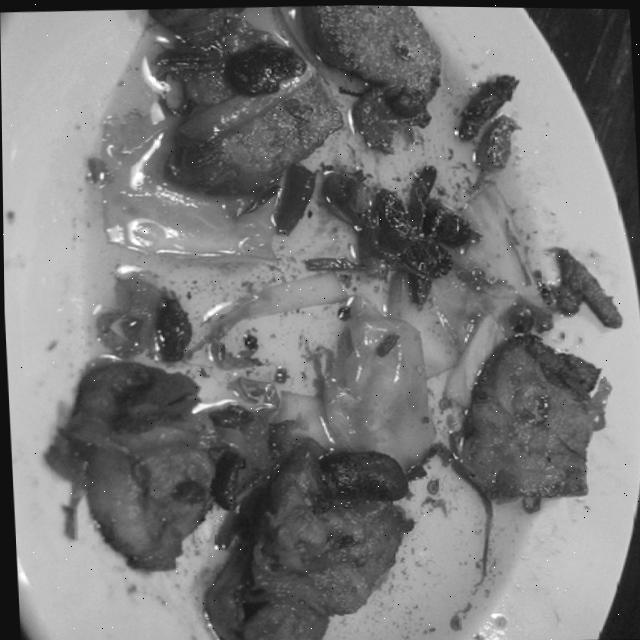猪肉菜式: (4, 0, 640, 640)
